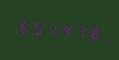eight: (88, 22, 101, 43)
five: (31, 17, 44, 38)
four: (60, 20, 73, 41)
one: (46, 18, 59, 39)
seven: (74, 21, 87, 42)
six: (17, 16, 30, 37)
